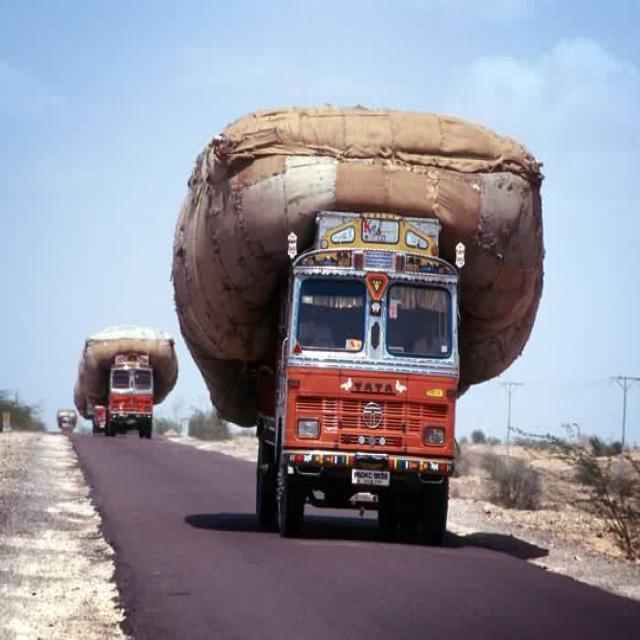Trucks: (257, 213, 458, 543), (105, 354, 153, 438), (57, 409, 77, 434), (92, 406, 107, 434)
